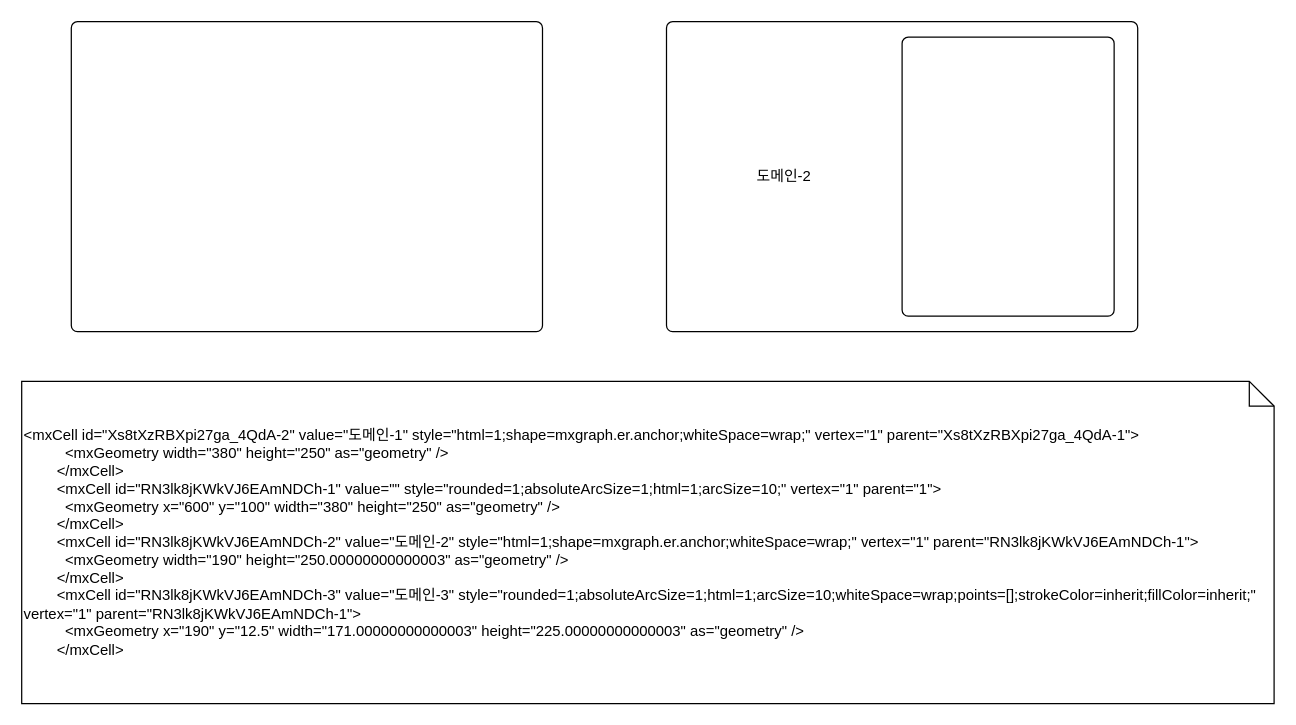
This 1296x725 diagram has some shape labels left out. Each missing label, with the box of its shape:
도메인-1: (70, 20, 542, 332)
도메인-3: (901, 36, 1114, 316)
